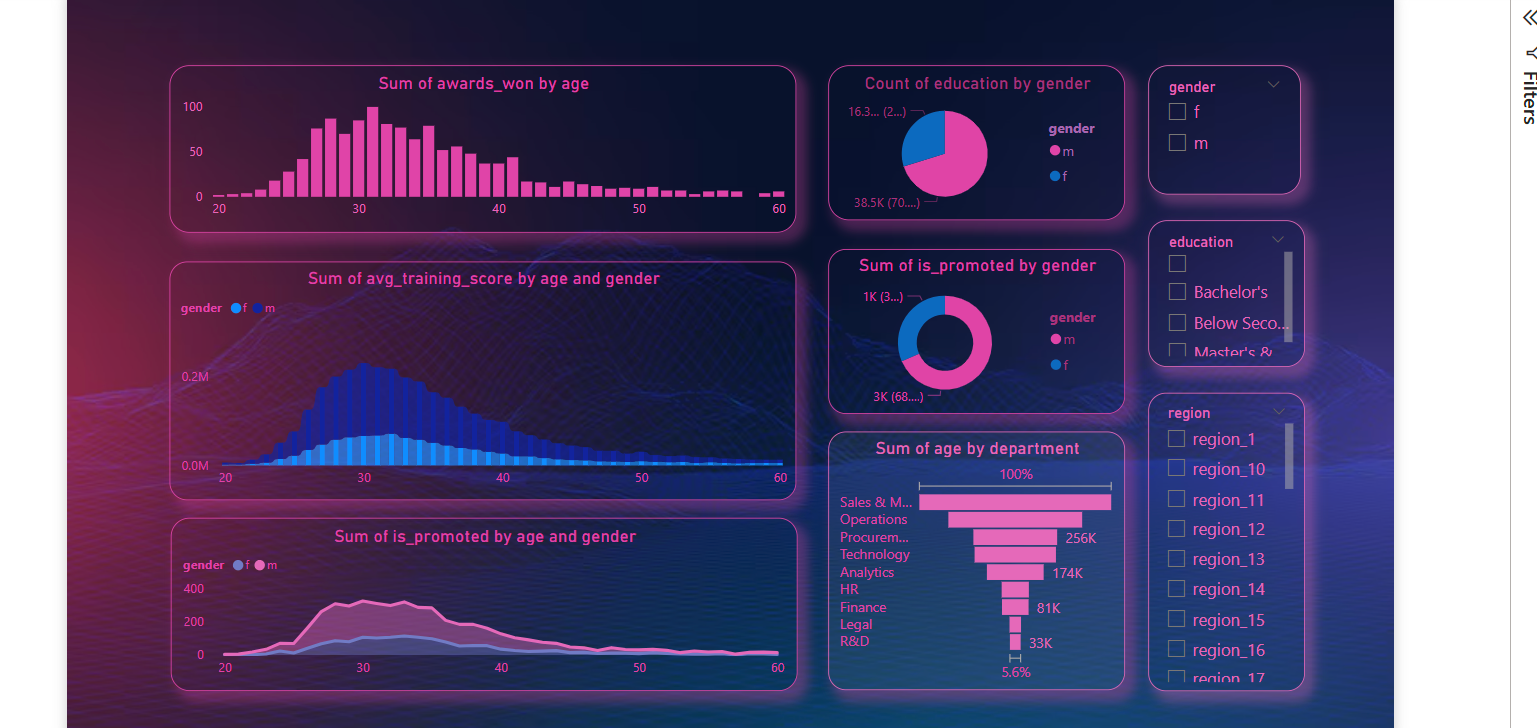

The dashboard page shown, as its layout file describes it:
{"tool":"powerbi","page":{"name":"Page 1","canvas":[1280,720],"ordinal":0},"visuals":[{"type":"slicer","fields":{"Values":["employee_promotion.gender"]},"box":[1042.9,68.6,146.8,124.9],"z":0},{"type":"slicer","fields":{"Values":["employee_promotion.education"]},"box":[1042.9,218.2,150.9,141.3],"z":1},{"type":"slicer","fields":{"Values":["employee_promotion.region"]},"box":[1042.9,384.2,150.9,288.2],"z":2},{"type":"stackedAreaChart","fields":{"Category":["employee_promotion.age"],"Y":["Sum(employee_promotion.is_promoted)"],"Series":["employee_promotion.gender"]},"box":[100.2,505,605.1,167.4],"z":3},{"type":"pieChart","fields":{"Category":["employee_promotion.gender"],"Y":["CountNonNull(employee_promotion.education)"]},"box":[734.1,68.6,286.8,149.6],"z":4},{"type":"donutChart","fields":{"Y":["Sum(employee_promotion.is_promoted)"],"Category":["employee_promotion.gender"]},"box":[734.1,245.6,286.8,159.2],"z":5},{"type":"clusteredColumnChart","fields":{"Y":["Sum(employee_promotion.awards_won)"],"Category":["employee_promotion.age"]},"box":[98.8,68.6,605.1,161.9],"z":6},{"type":"ribbonChart","fields":{"Y":["Sum(employee_promotion.avg_training_score)"],"Category":["employee_promotion.age"],"Series":["employee_promotion.gender"]},"box":[98.8,258,605.1,230.5],"z":7},{"type":"funnel","fields":{"Category":["employee_promotion.department"],"Y":["Sum(employee_promotion.age)"]},"box":[734.1,422.6,286.8,249.7],"z":8}]}

Visuals, with their boxes in screenshot pixels (x1, y1, x2, y2):
slicer - employee_promotion.gender: 972/66/1113/186
slicer - employee_promotion.education: 972/210/1117/346
slicer - employee_promotion.region: 972/370/1117/647
stackedAreaChart - employee_promotion.age x Sum(employee_promotion.is_promoted): 64/486/647/647
pieChart - employee_promotion.gender x CountNonNull(employee_promotion.education): 674/66/951/210
donutChart - Sum(employee_promotion.is_promoted) x employee_promotion.gender: 674/236/951/390
clusteredColumnChart - Sum(employee_promotion.awards_won) x employee_promotion.age: 63/66/645/222
ribbonChart - Sum(employee_promotion.avg_training_score) x employee_promotion.age: 63/248/645/470
funnel - employee_promotion.department x Sum(employee_promotion.age): 674/407/951/647
